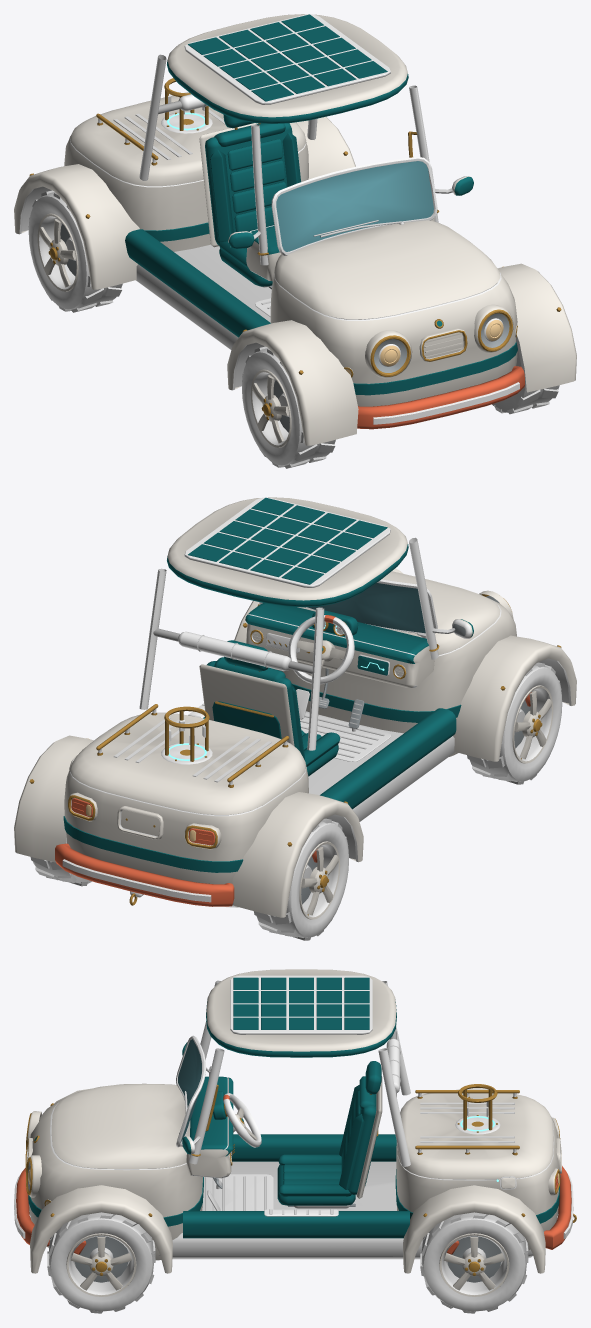
Rendered from courier_car.fbx.
3 renders of one model, top to bottom at view 1: azimuth 30°, elevation 25°; view 2: azimuth 150°, elevation 25°; view 3: azimuth 270°, elevation 25°, orthographic. The views are drawn at different scales.
Visible parts, largest first — view 1: Body, Wheel_FR, Wheel_RR, Wheel_FL; view 2: Body, Wheel_RR, Wheel_FR, SteeringWheel, Wheel_RL; view 3: Body, Wheel_RL, Wheel_FL, SteeringWheel.
Part boxes in pixels (x1=…): Body: x1=14, y1=14, x2=576, y2=445; Wheel_FR: x1=242, y1=346, x2=335, y2=468; Wheel_RR: x1=28, y1=190, x2=122, y2=312; Wheel_FL: x1=492, y1=350, x2=559, y2=414; Body: x1=14, y1=497, x2=576, y2=917; Wheel_RR: x1=254, y1=818, x2=348, y2=940; Wheel_FR: x1=467, y1=662, x2=562, y2=784; SteeringWheel: x1=288, y1=615, x2=354, y2=684; Wheel_RL: x1=30, y1=857, x2=91, y2=886; Body: x1=14, y1=969, x2=576, y2=1273; Wheel_RL: x1=420, y1=1212, x2=528, y2=1313; Wheel_FL: x1=47, y1=1212, x2=155, y2=1313; SteeringWheel: x1=223, y1=1093, x2=261, y2=1147.
Bounding box in the file's own units: 1.64 × 1.66 × 3.32.
